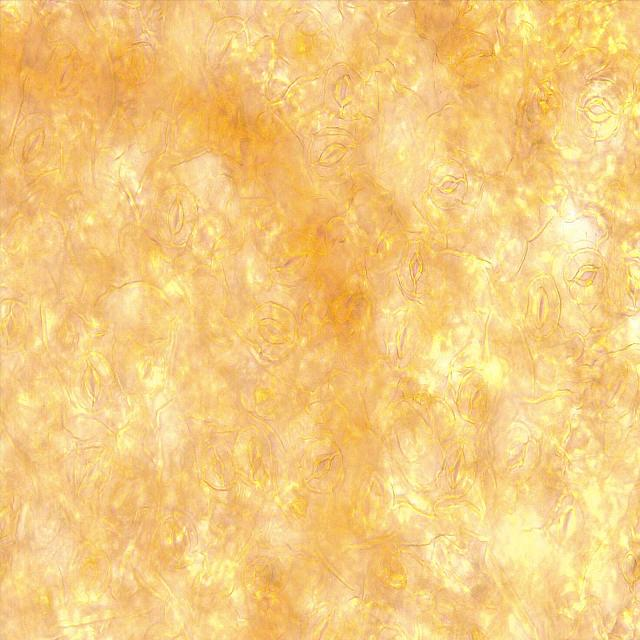Stomata: (248, 301, 301, 363), (592, 353, 638, 423), (492, 422, 542, 486), (576, 77, 624, 142), (10, 111, 57, 175), (205, 15, 251, 80), (71, 350, 115, 414), (231, 424, 274, 489), (320, 62, 367, 121), (67, 542, 112, 603), (72, 444, 116, 506), (563, 246, 608, 306), (268, 231, 317, 286), (157, 183, 199, 247), (156, 511, 200, 571), (524, 272, 562, 340), (436, 438, 478, 499), (301, 437, 345, 495), (308, 126, 356, 179), (384, 308, 423, 372), (44, 42, 83, 102), (398, 237, 434, 296), (428, 157, 468, 209), (451, 31, 494, 78), (457, 368, 492, 425), (200, 442, 235, 491), (0, 298, 28, 354), (614, 260, 640, 312), (0, 0, 33, 38)
